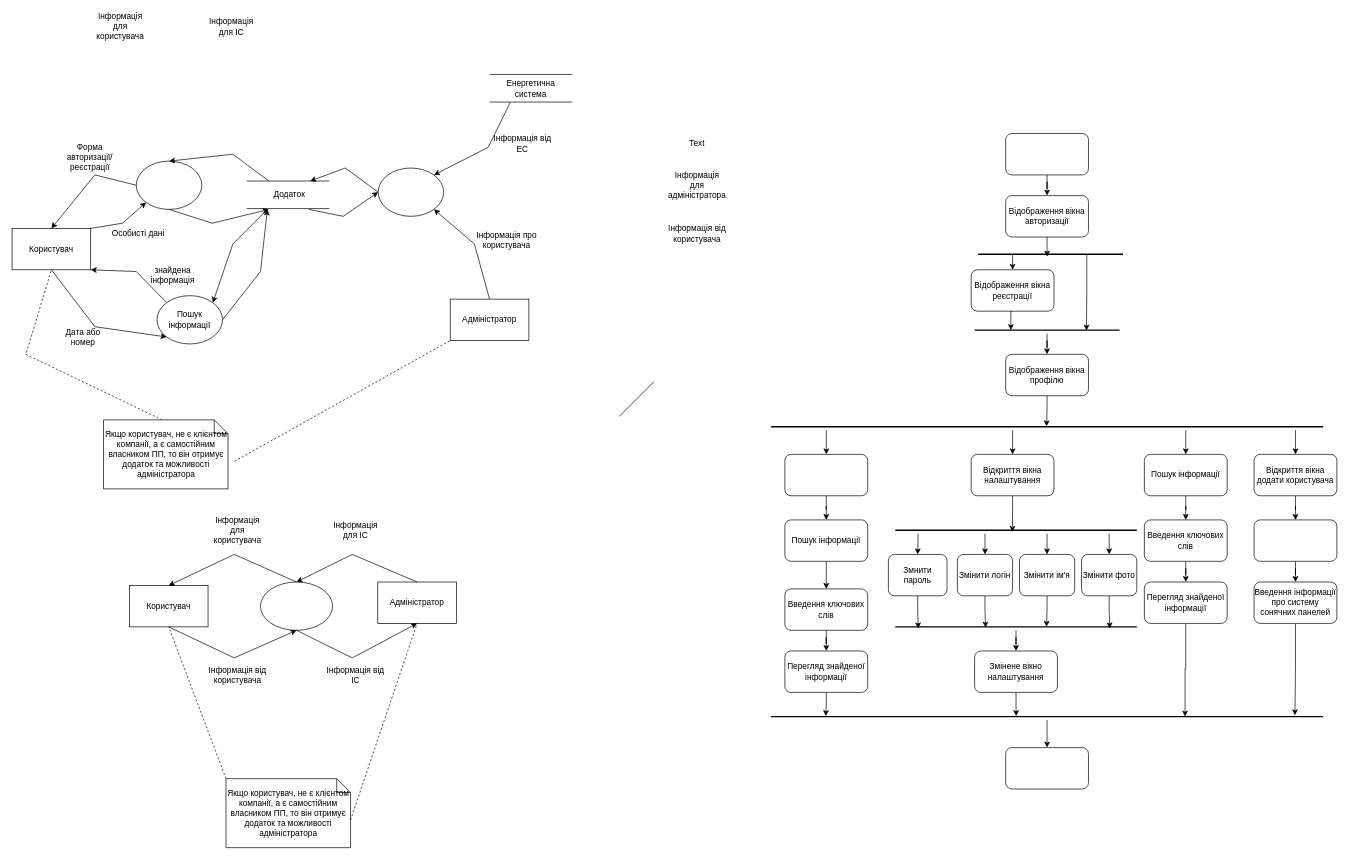
Image size: 1349x860. Some labels were removed from this diagram. The box of each missing label's shape, as (x1, y1, x2, y2) in pixels:
Введення інформації про користувача: (1253, 519, 1337, 561)
Відкрити додаток: (1005, 133, 1088, 175)
Відкриття вікна продуктивності: (784, 454, 868, 496)
Закриття додатку: (1005, 747, 1088, 789)
Оновлення даних у БД: (377, 167, 444, 216)
Проходження авторизації/реєстрації: (136, 160, 202, 209)
Інформаційна система: (260, 581, 333, 630)
